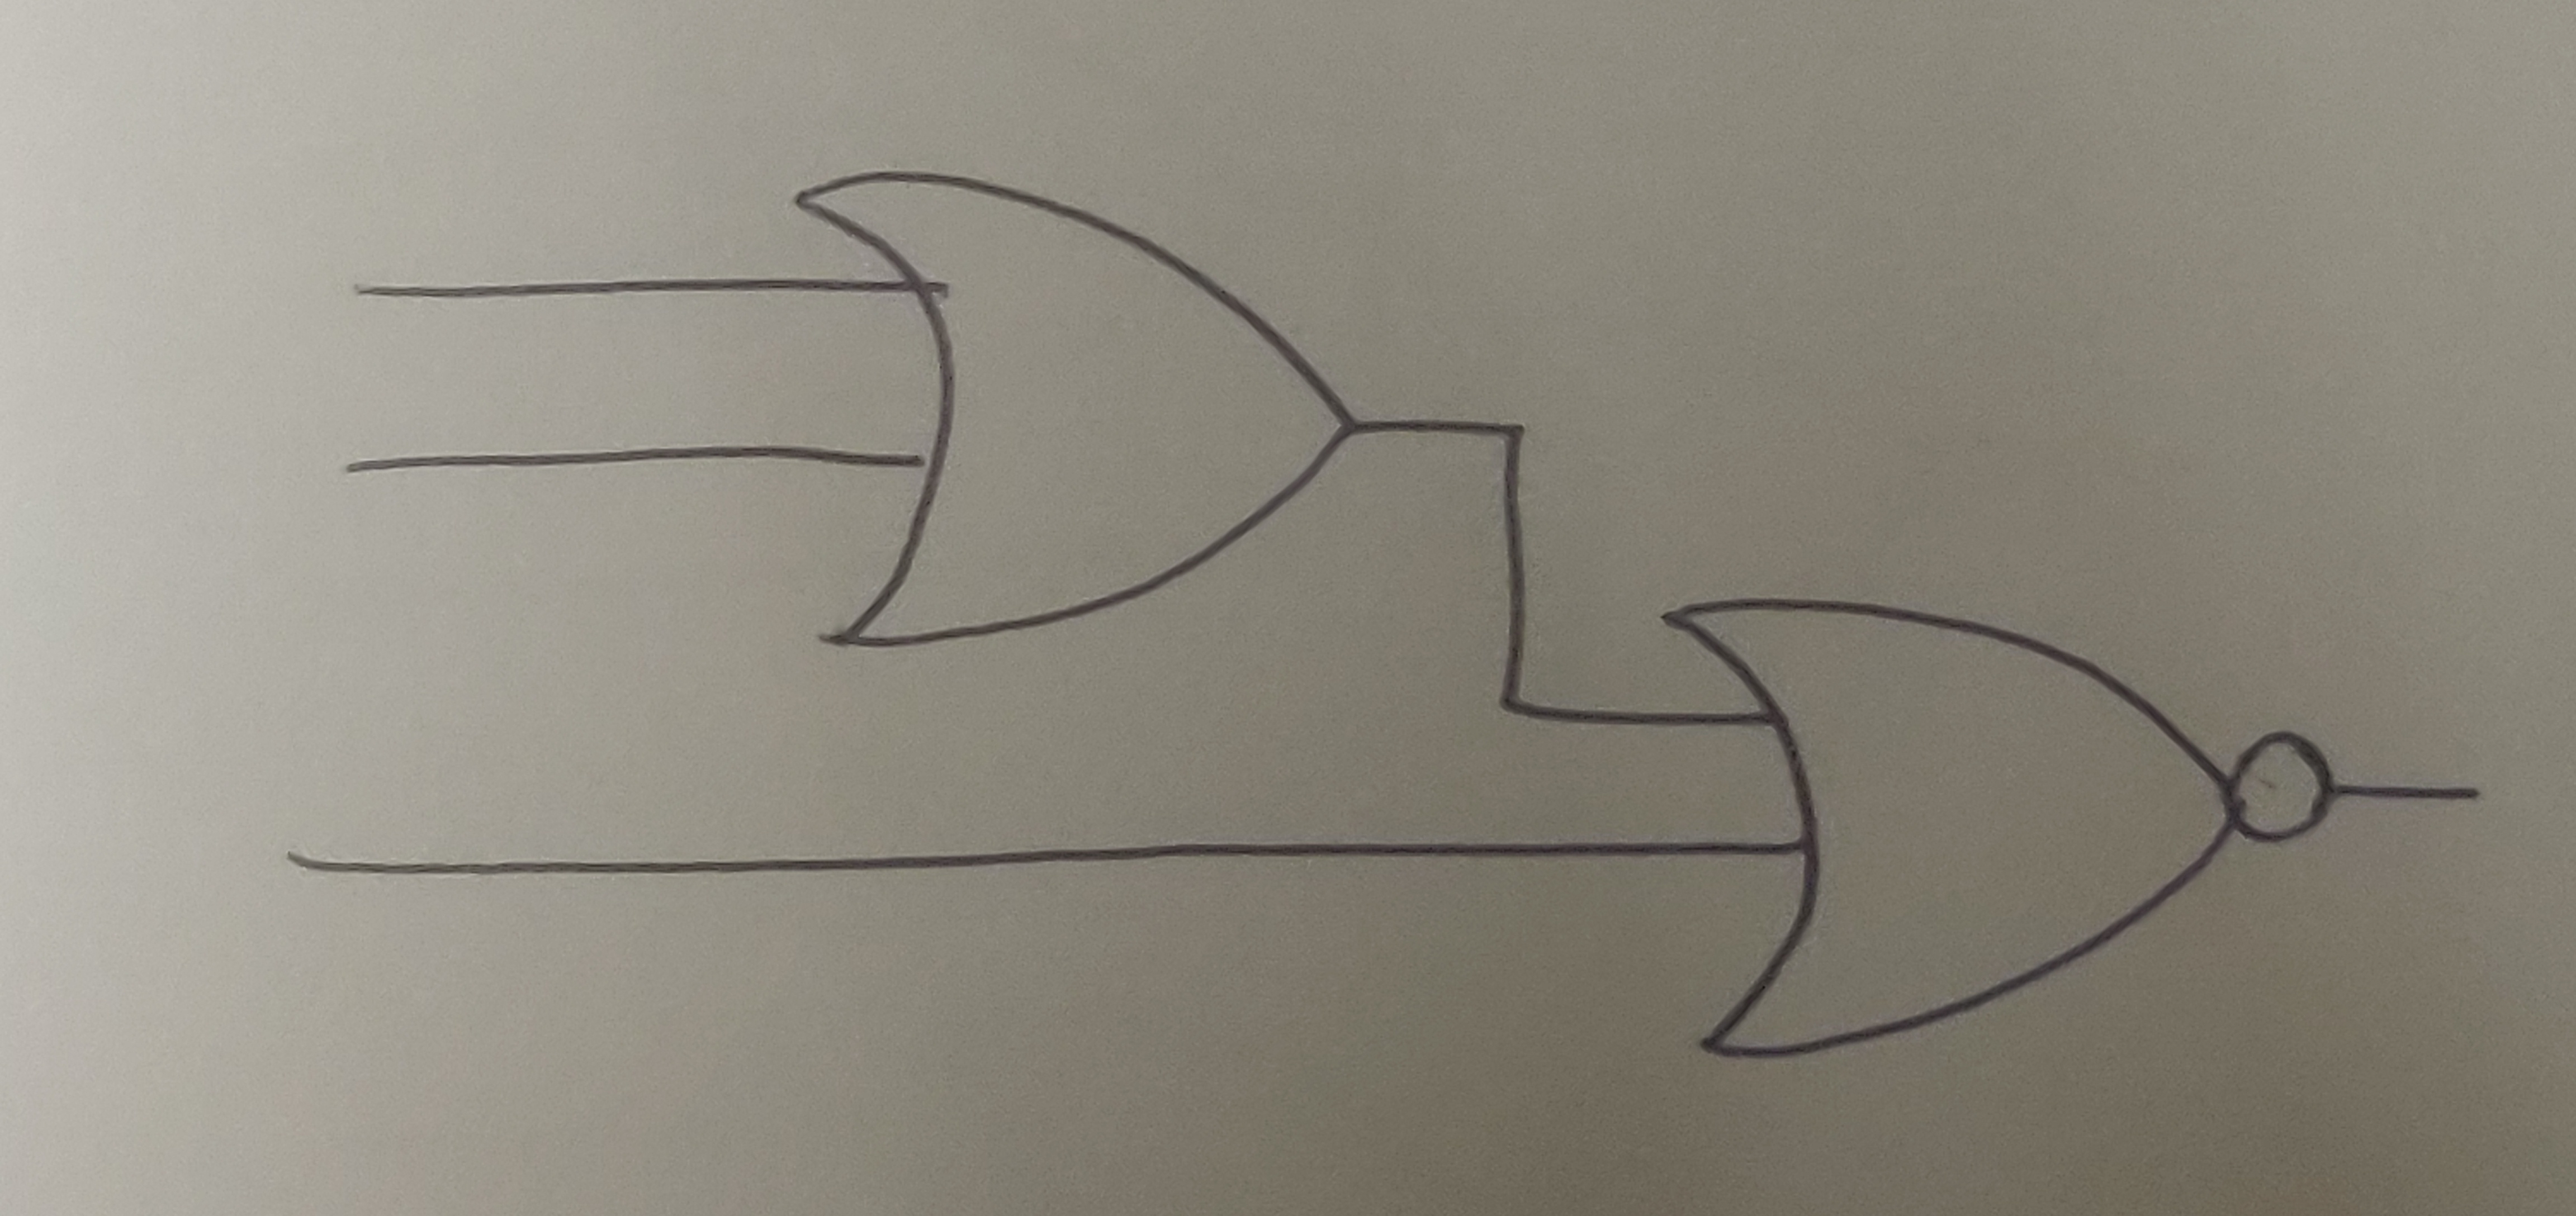not: (2221, 730, 2346, 845)
or: (784, 168, 1357, 654), (1646, 598, 2247, 1058)
